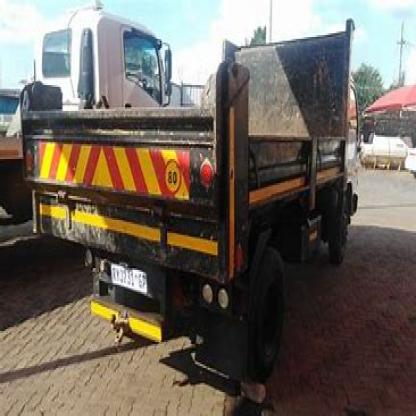dump_truck: (17, 29, 415, 357)
